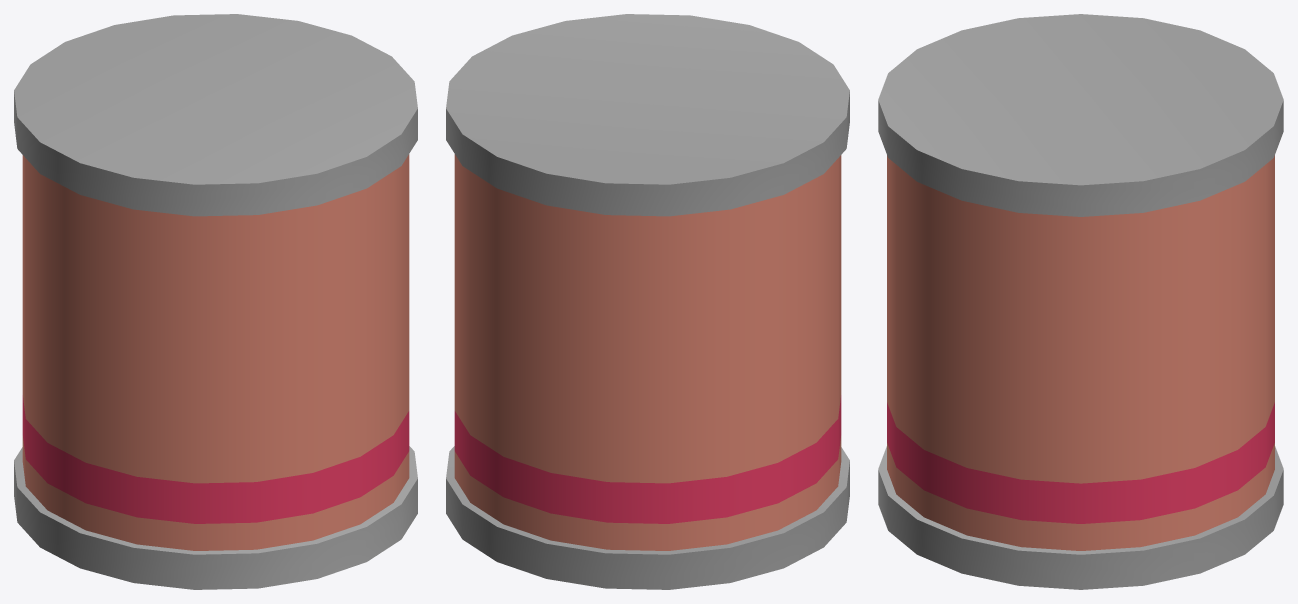
The model's file is Ürün29.fbx.
3 views of the same model, side by side, from view 1: azimuth 30°, elevation 25°; view 2: azimuth 150°, elevation 25°; view 3: azimuth 270°, elevation 25° (orthographic).
Parts seen in each view (by area): view 1: pCylinder15; view 2: pCylinder15; view 3: pCylinder15.
Part boxes in pixels (box(x1,y1,x2,y2)): pCylinder15: box(14, 14, 417, 589); pCylinder15: box(446, 14, 849, 589); pCylinder15: box(878, 14, 1283, 589).
Size of the model in its own units: 9.51 by 10.47 by 9.51.
